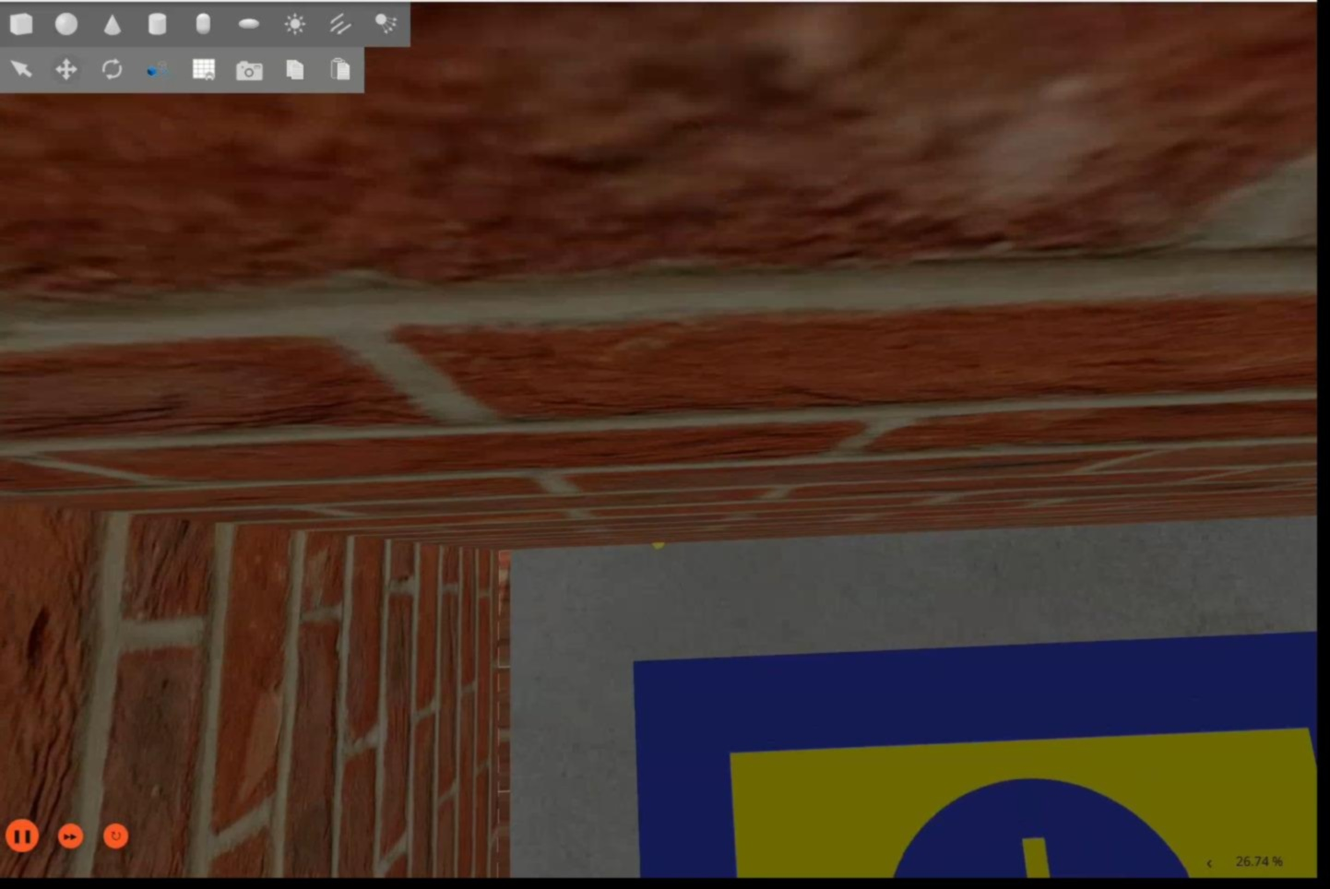large_base: (635, 631, 1317, 880)
